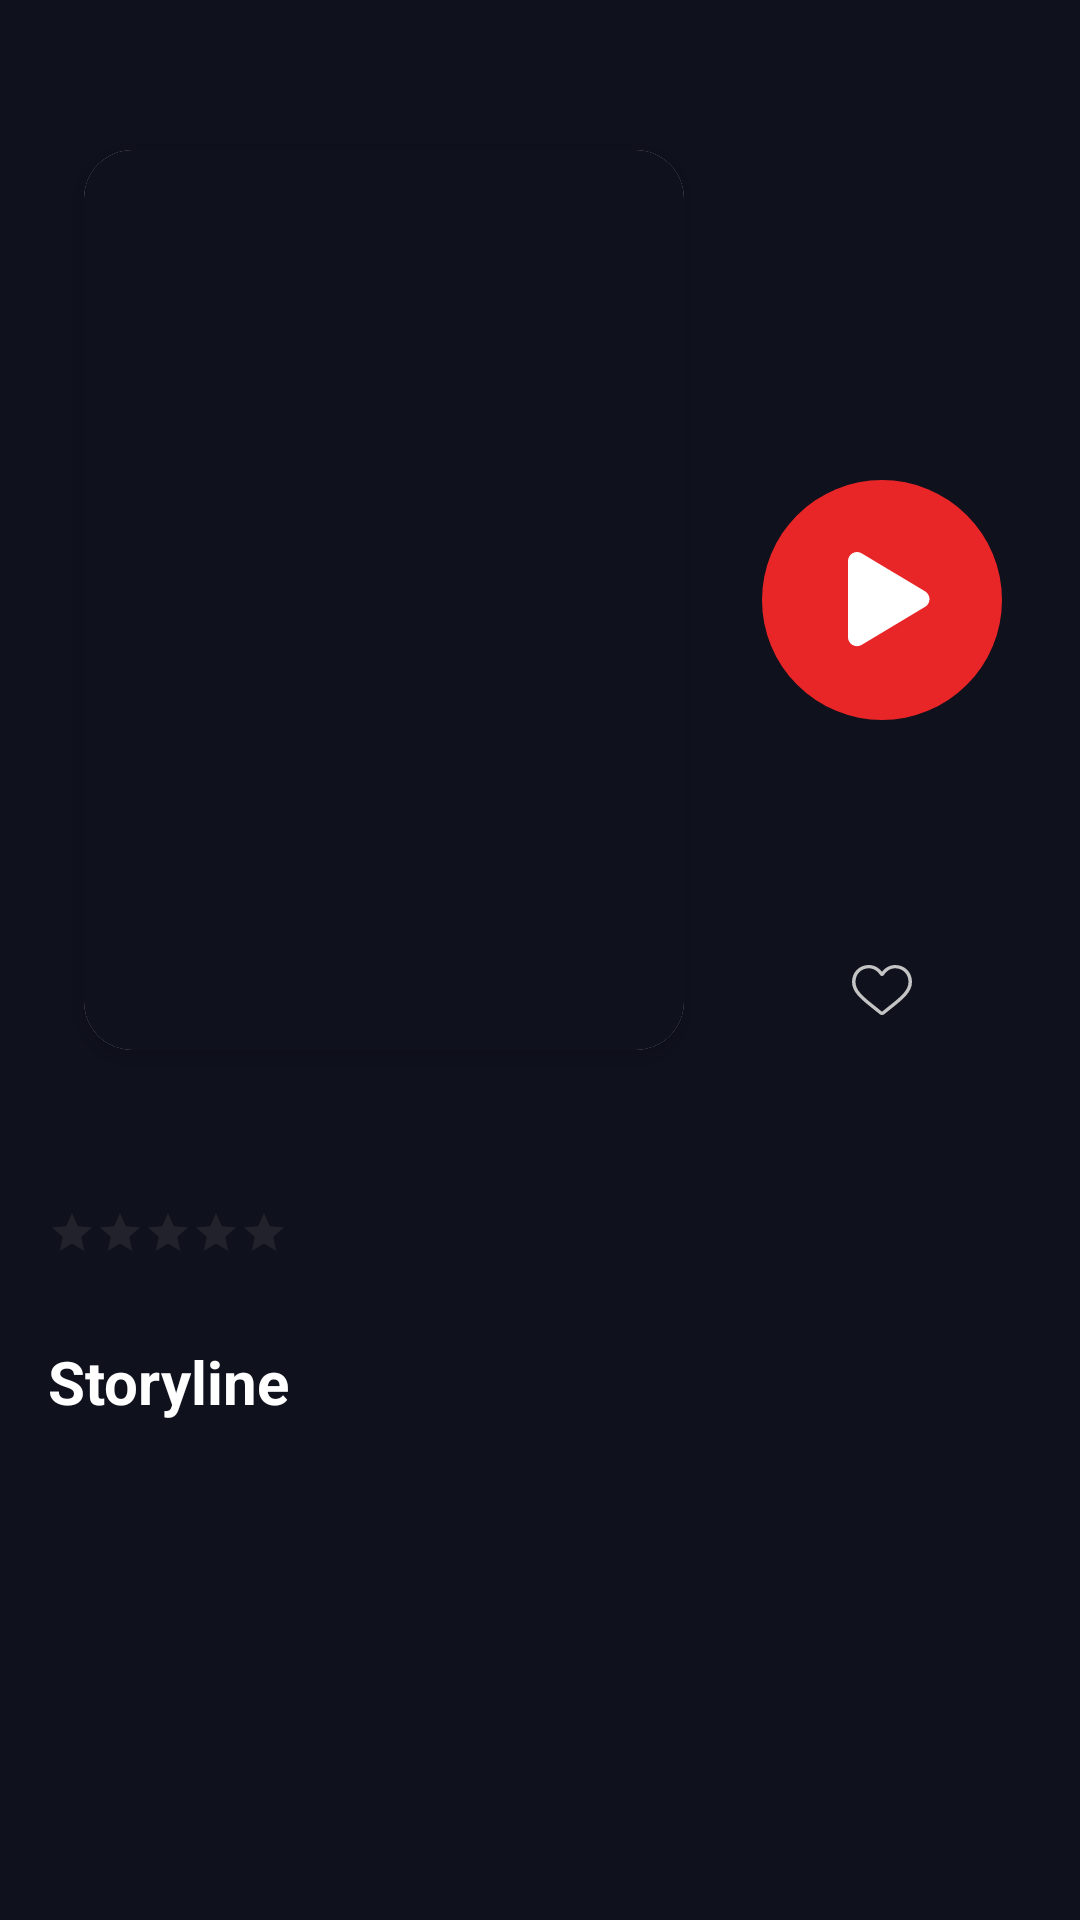

Point at icon controls on the screen. Image size 1080x1920, points as (x,y).
heart: (882,990)
